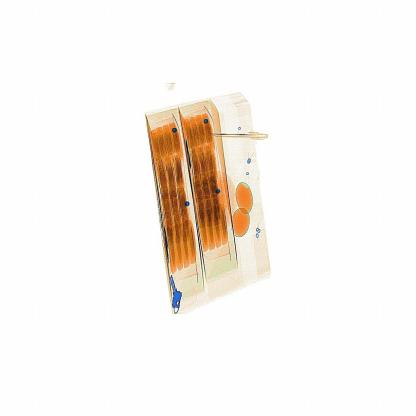wrench: (206, 111, 275, 148)
